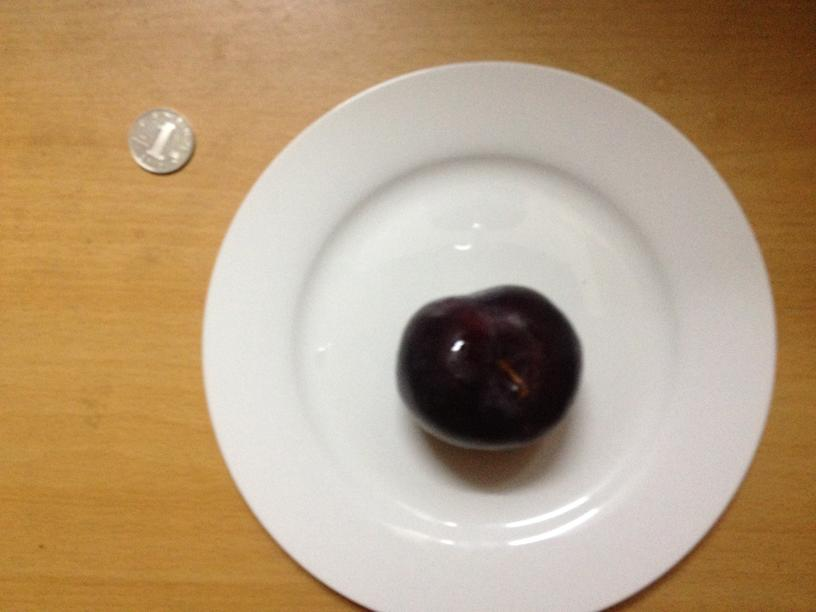coin: (125, 108, 194, 175)
plum: (404, 285, 579, 453)
